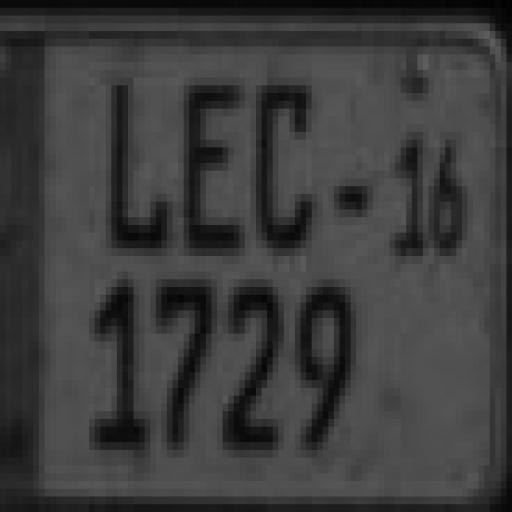1: (91, 273, 141, 453)
2: (224, 273, 283, 462)
7: (152, 276, 216, 453)
9: (297, 278, 359, 462)
C: (246, 55, 318, 259)
E: (179, 67, 243, 254)
L: (106, 72, 176, 256)
